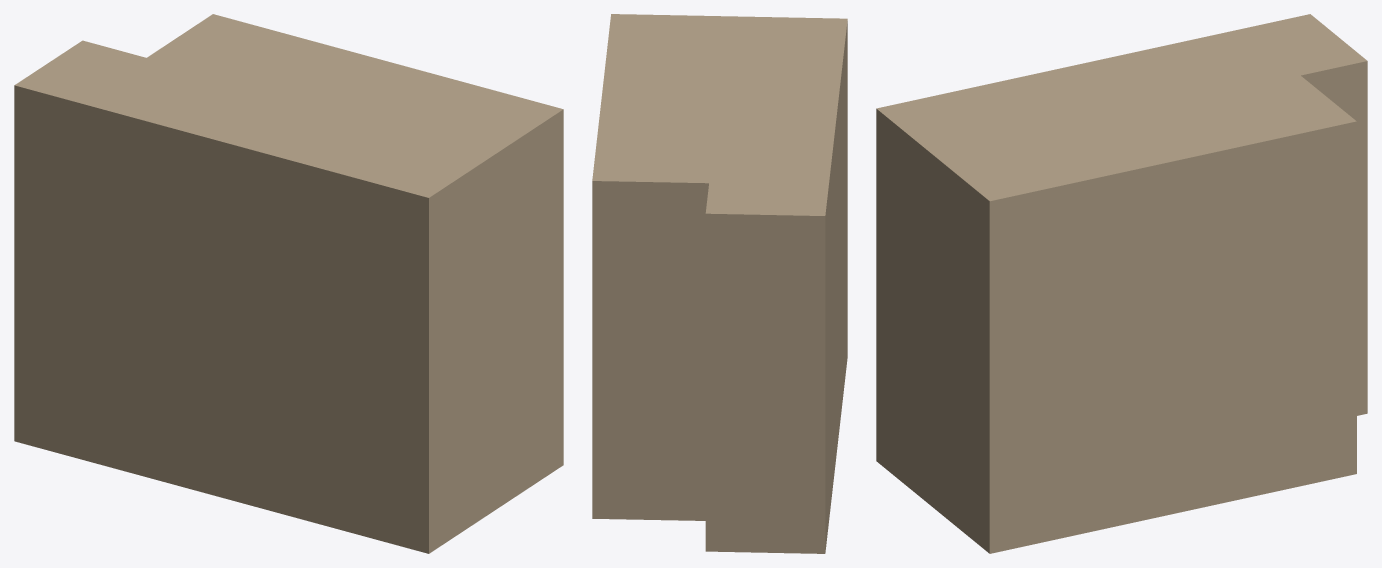
File: bld_106415255.dae
3 views of the same model, side by side, from view 1: azimuth 30°, elevation 25°; view 2: azimuth 150°, elevation 25°; view 3: azimuth 270°, elevation 25° (orthographic). The views are drawn at different scales.
Visible parts, largest first — view 1: bld_106415255; view 2: bld_106415255; view 3: bld_106415255.
Boxes of the visible parts, left/top/right/bottom form: bld_106415255: left=14, top=14, right=563, bottom=553; bld_106415255: left=592, top=14, right=847, bottom=553; bld_106415255: left=876, top=14, right=1367, bottom=553.
Size of the model in its own units: 9.11 by 10.1 by 8.
